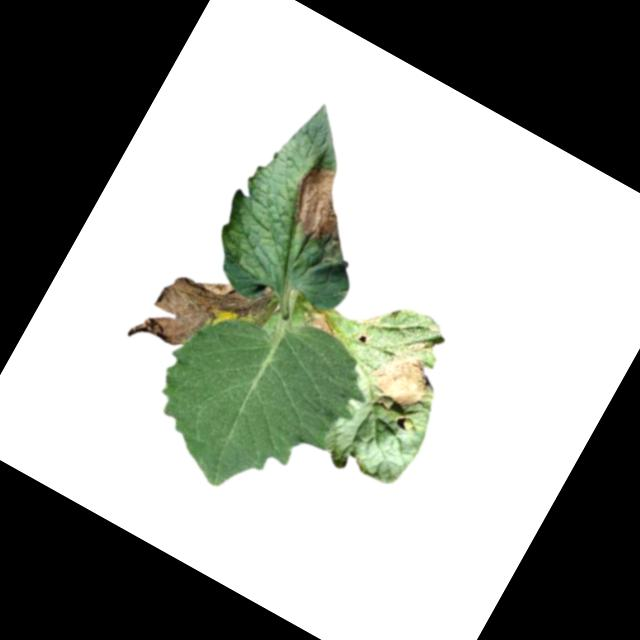Late_blight: (127, 237, 284, 390), (274, 156, 371, 256), (361, 339, 439, 417), (303, 306, 339, 338)
healthy: (125, 272, 385, 531)
